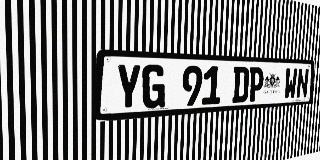1: (202, 66, 221, 105)
9: (182, 65, 203, 106)
D: (232, 67, 249, 103)
G: (142, 64, 166, 109)
N: (296, 68, 309, 99)
P: (248, 67, 264, 102)
W: (284, 68, 298, 100)
Y: (115, 64, 141, 111)
